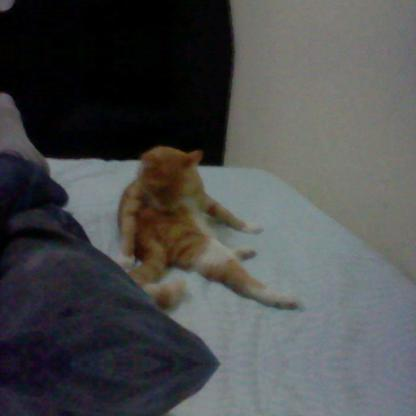Cat: (115, 147, 301, 311)
